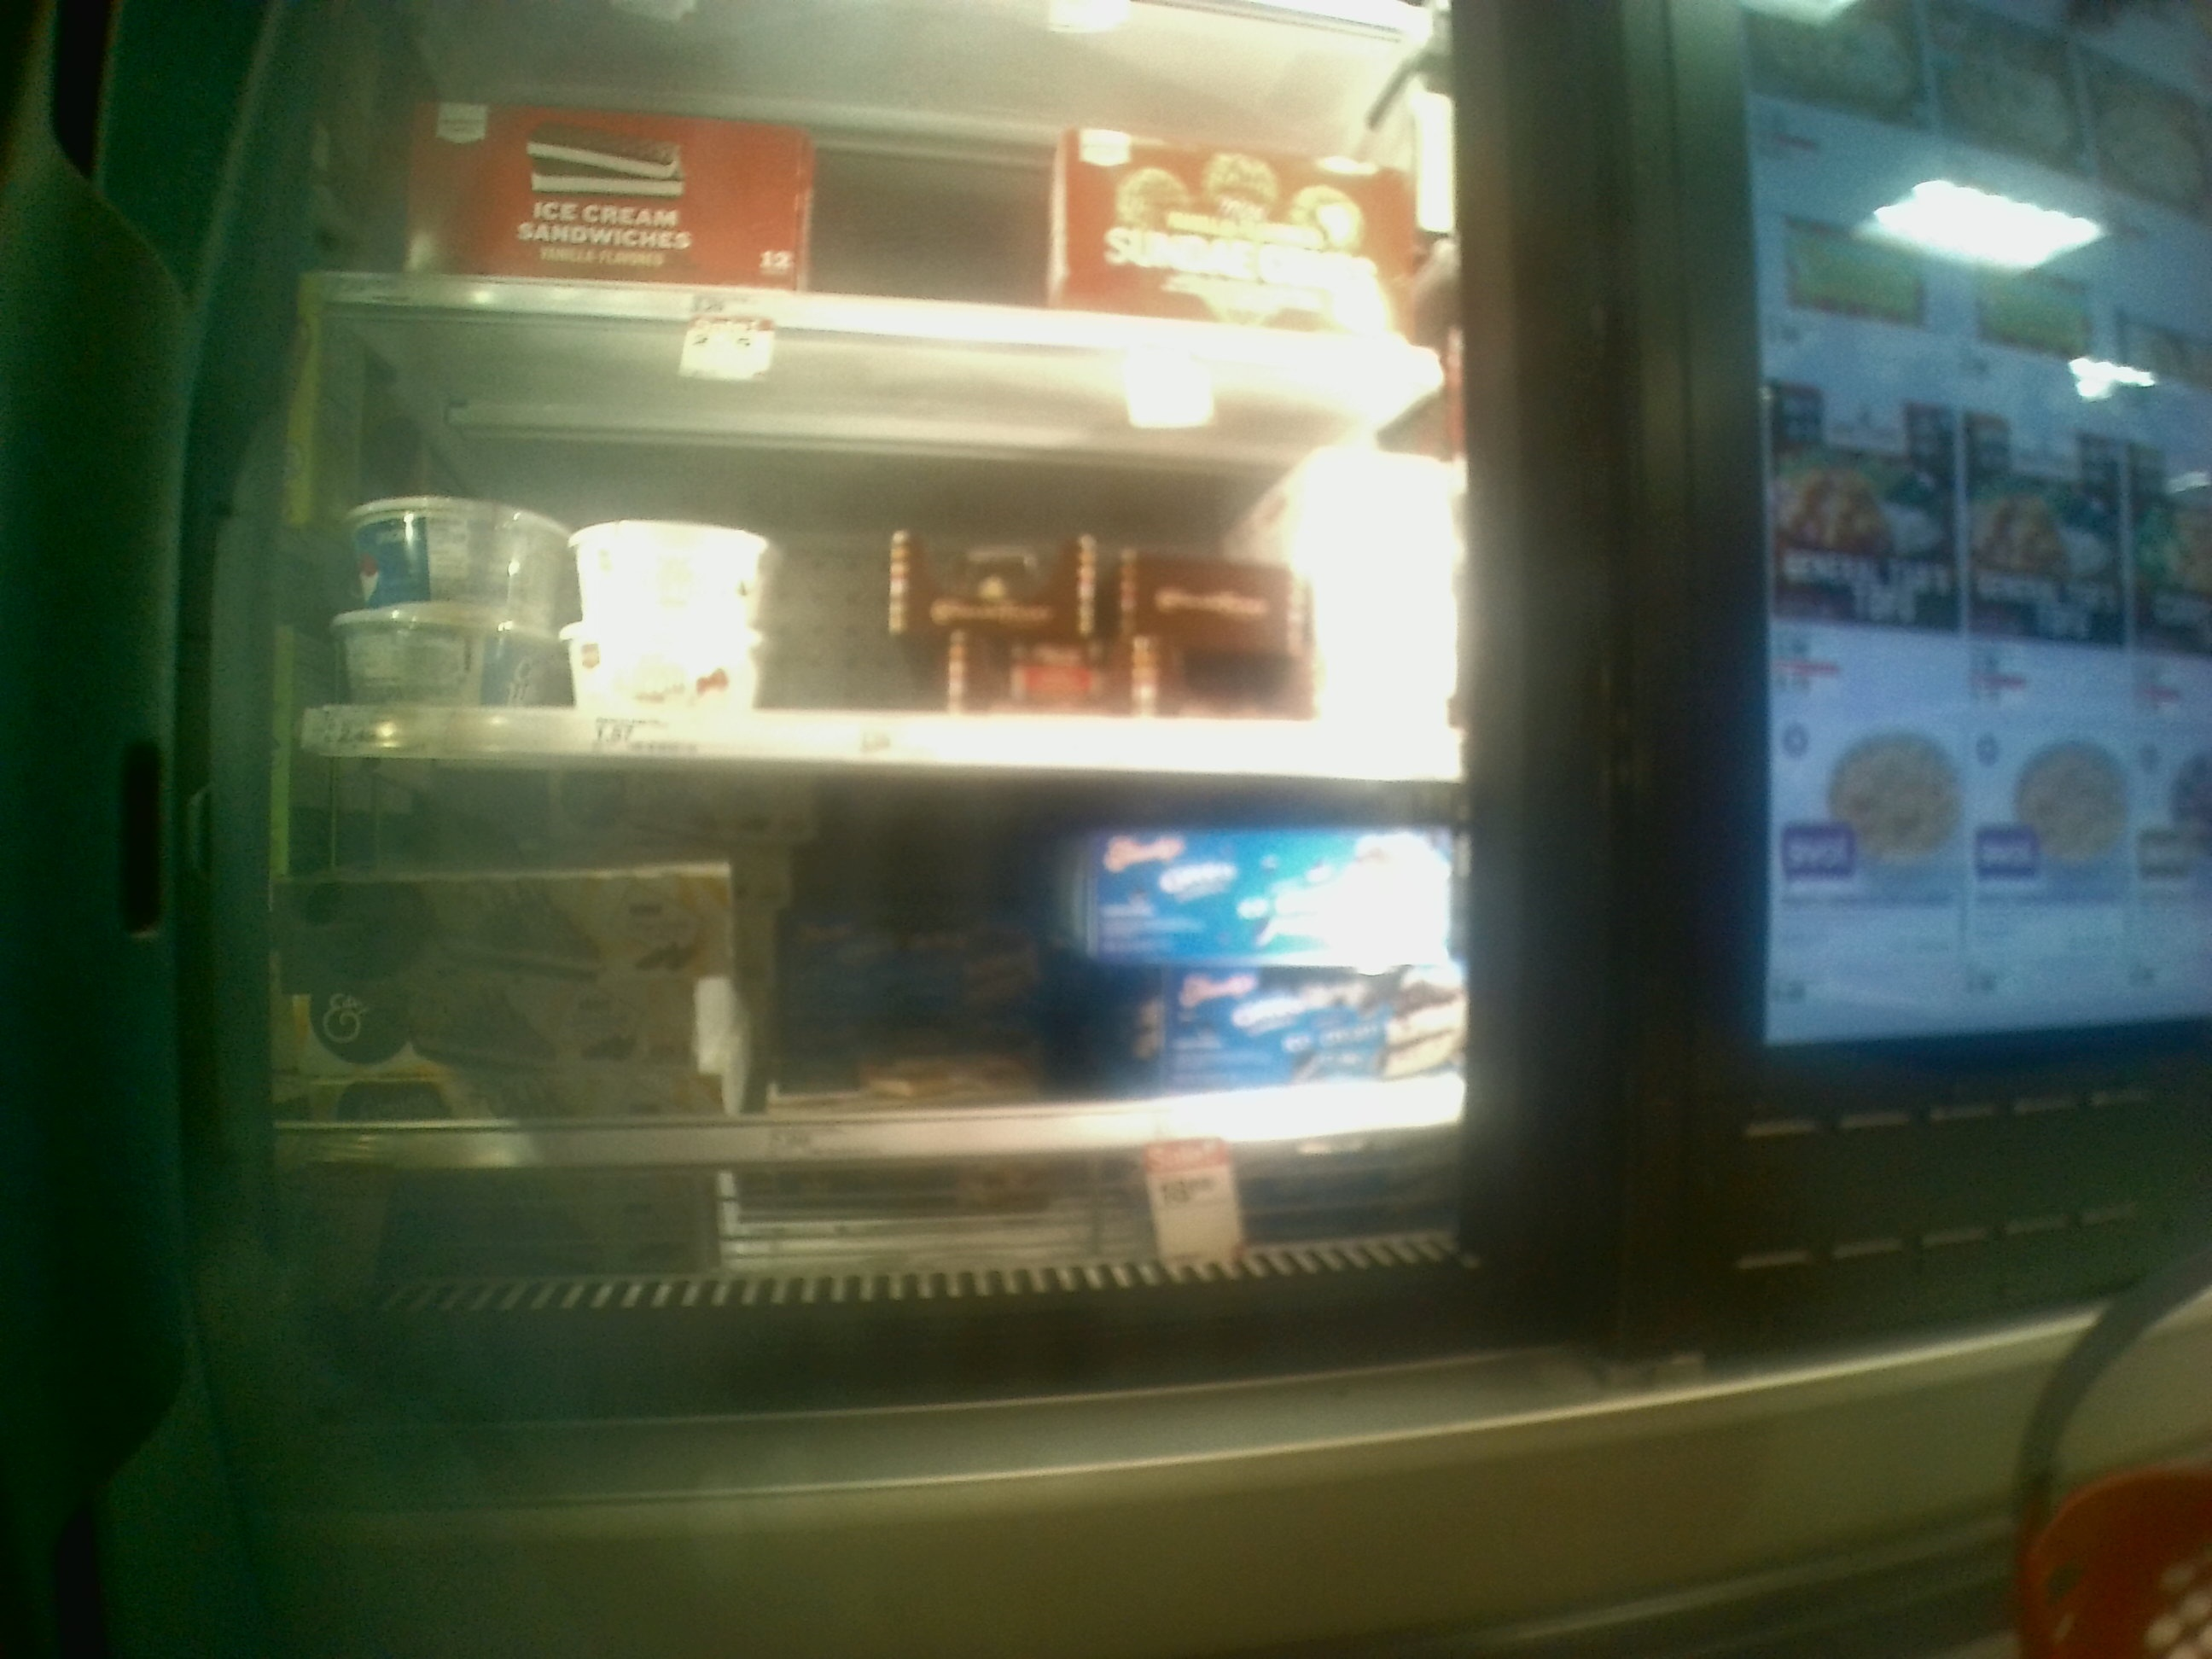shelf: (199, 779, 1480, 1229), (289, 296, 1470, 774)
